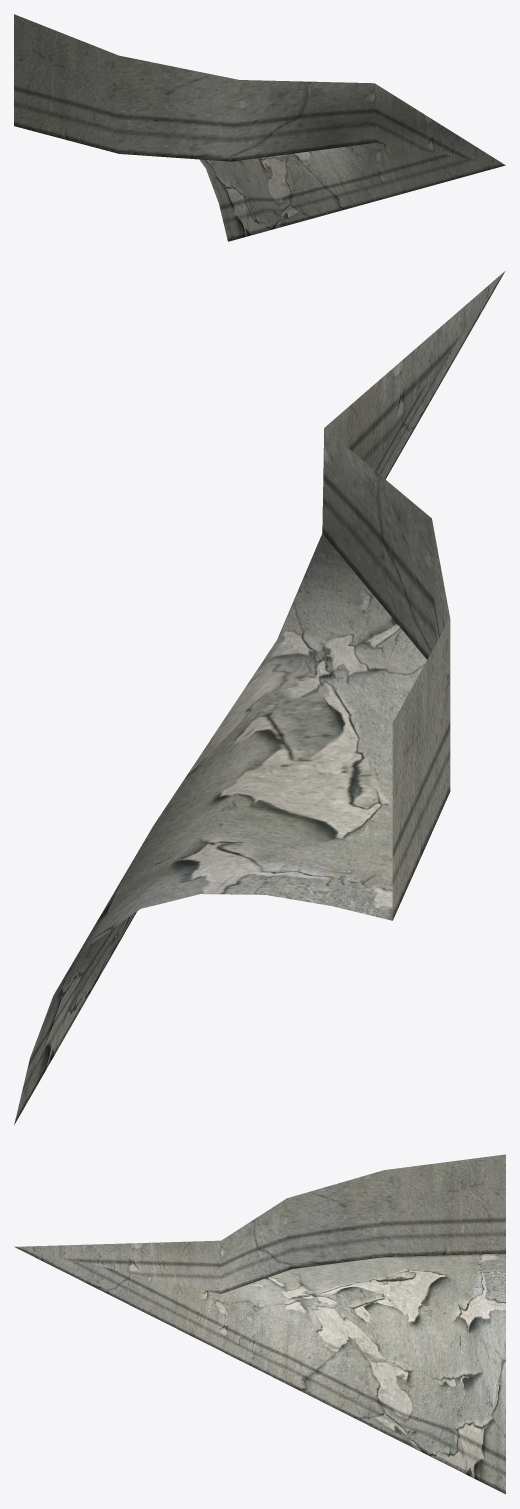
File: urban_damaged_deco_left_angle_end_ceiling.dae
3 renders of one model, top to bottom at view 1: azimuth 30°, elevation 25°; view 2: azimuth 150°, elevation 25°; view 3: azimuth 270°, elevation 25°, orthographic. The views are drawn at different scales.
Visible parts, largest first — view 1: polySurface782; view 2: polySurface782; view 3: polySurface782.
Boxes of the visible parts, x1,y1,x2,y2 form: polySurface782: (14,14,505,241); polySurface782: (14,271,505,1125); polySurface782: (14,1154,505,1494).
Size of the model in its own units: 1 by 1.25 by 2.25.
